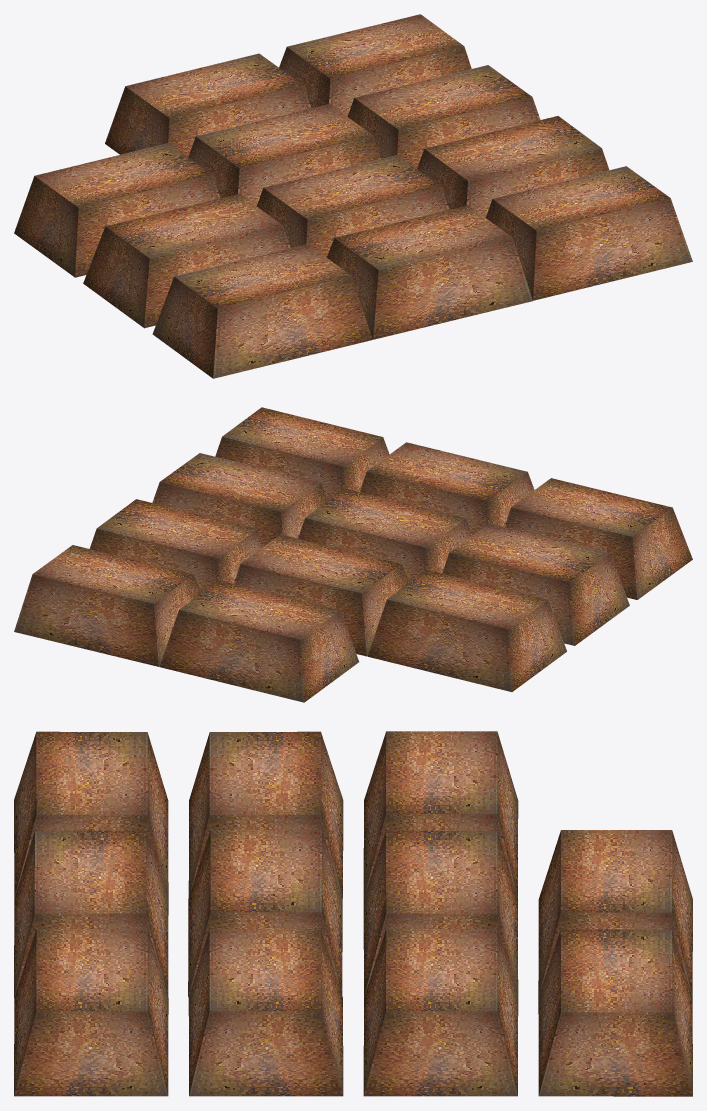
File: iron_11.glb
The picture shows the model from 3 angles, top to bottom: view 1: azimuth 30°, elevation 25°; view 2: azimuth 150°, elevation 25°; view 3: azimuth 270°, elevation 25°; orthographic projection. The views are drawn at different scales.
Parts seen in each view (by area): view 1: iron01.001; view 2: iron01.001; view 3: iron01.001.
Part boxes in pixels (left/top/right/bottom): iron01.001: left=14, top=14, right=692, bottom=378; iron01.001: left=14, top=407, right=692, bottom=702; iron01.001: left=14, top=731, right=692, bottom=1096.
Bounding box in the file's own units: 189 × 22.94 × 183.
1 material, 1 textured.
